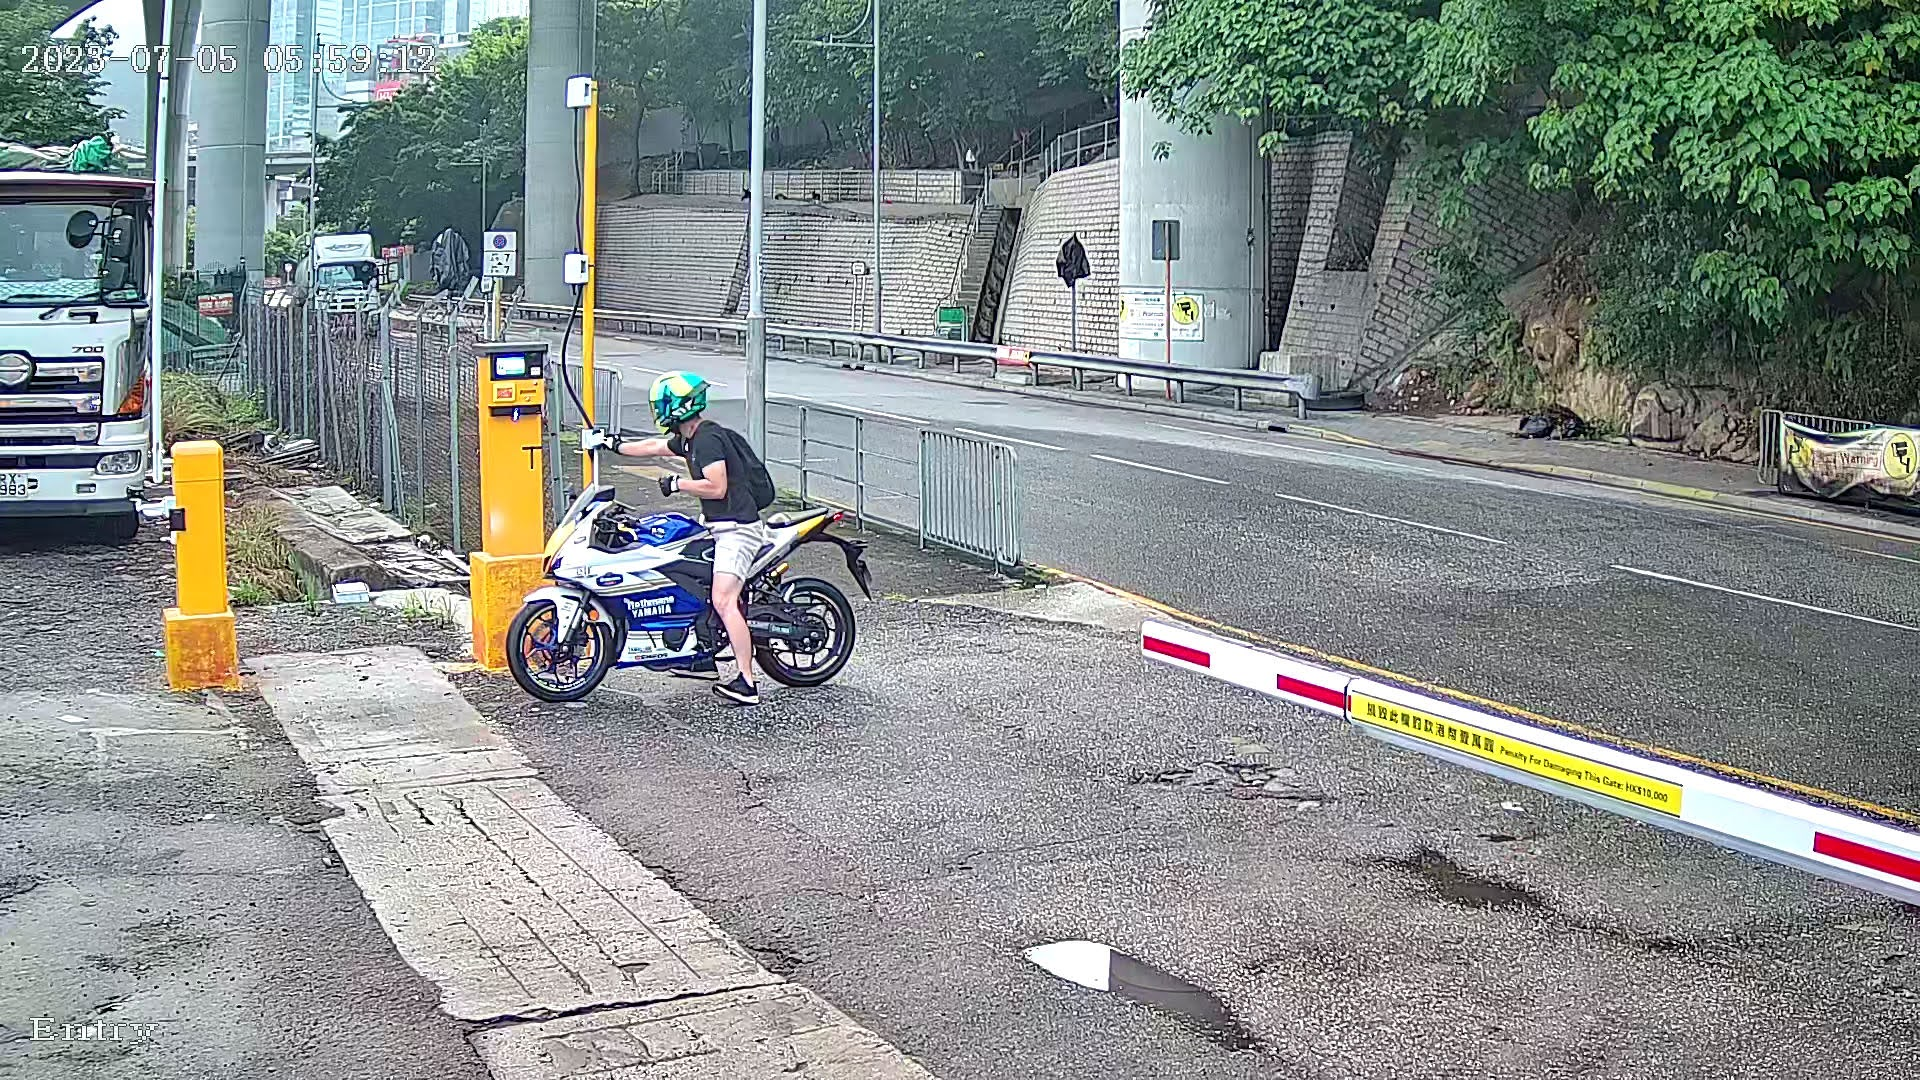motorcycle: (439, 318, 920, 738)
